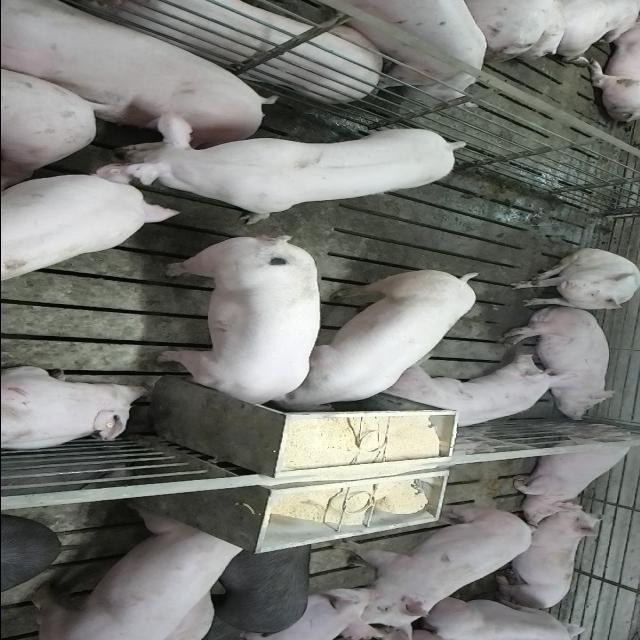Feeding: (272, 264, 480, 412), (155, 231, 322, 408)
Lateral_lying: (0, 4, 272, 157), (58, 0, 384, 102), (501, 306, 618, 420)
Sitting: (506, 424, 640, 518), (506, 248, 638, 312)
Standing: (88, 120, 466, 220), (18, 508, 246, 638), (316, 504, 532, 632), (0, 160, 180, 280), (295, 0, 483, 102), (202, 542, 314, 638)
Sternal_lying: (382, 356, 574, 433), (0, 366, 150, 454), (490, 505, 602, 610)
